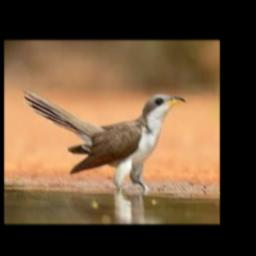Cuckoo: (24, 88, 186, 191)
